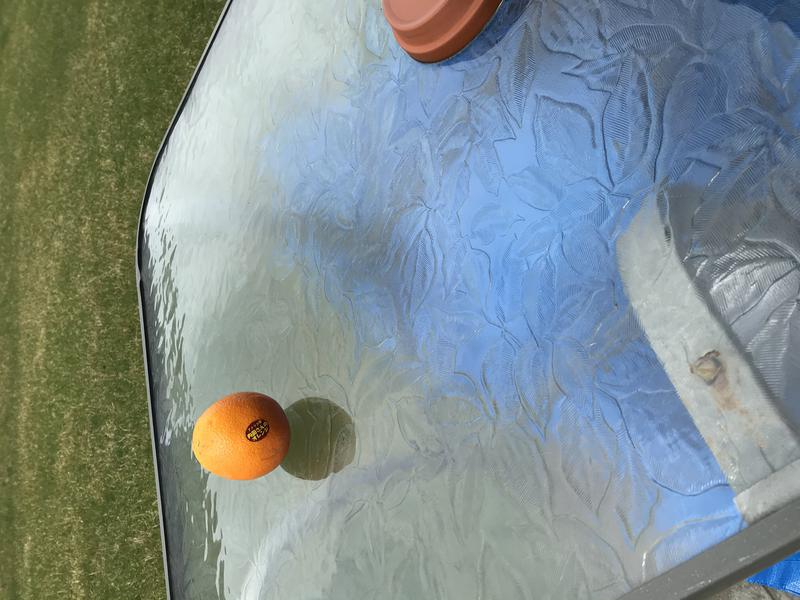orange: (186, 387, 294, 484)
